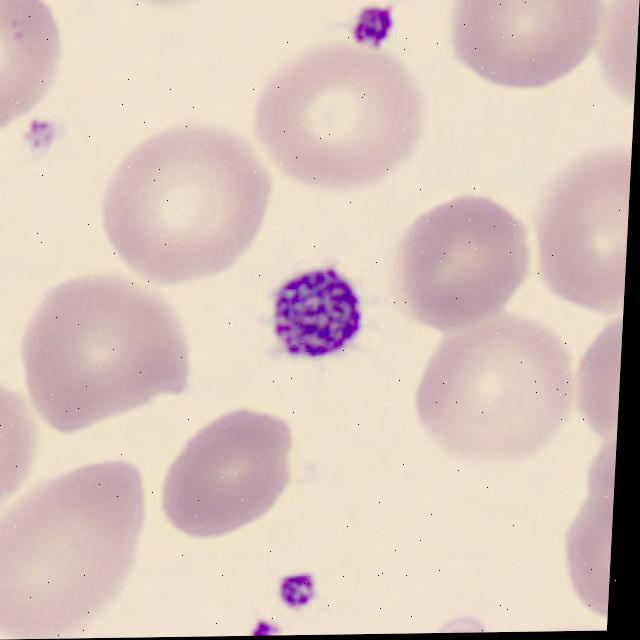platelets: (261, 257, 367, 367), (350, 0, 408, 51), (268, 564, 323, 609)
rbc: (89, 119, 277, 284), (0, 460, 156, 640), (253, 42, 440, 187), (18, 279, 203, 420), (410, 304, 576, 454), (145, 405, 306, 544), (393, 197, 533, 323), (445, 0, 608, 108), (532, 139, 632, 314), (0, 0, 73, 122), (551, 499, 614, 631), (574, 309, 624, 442), (0, 369, 45, 514), (594, 0, 640, 113), (585, 429, 617, 516), (106, 0, 232, 5)
